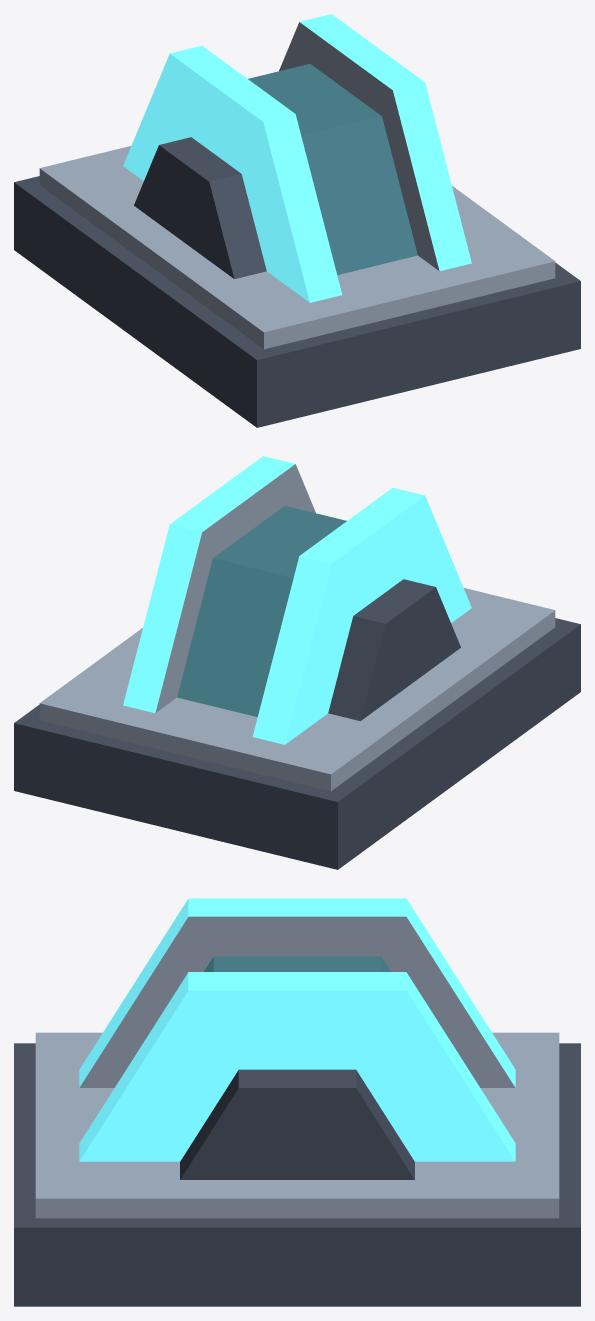
Rendered from machine_generatorLarge.glb.
3 renders of one model, top to bottom at view 1: azimuth 30°, elevation 25°; view 2: azimuth 150°, elevation 25°; view 3: azimuth 270°, elevation 25°, orthographic. The views are drawn at different scales.
Visible parts, largest first — view 1: machine_generatorLarge; view 2: machine_generatorLarge; view 3: machine_generatorLarge.
Part boxes in pixels (x1,y1,x2,y2): machine_generatorLarge: [14, 14, 580, 427]; machine_generatorLarge: [14, 456, 580, 869]; machine_generatorLarge: [14, 898, 580, 1306].
Size of the model in its own units: 1 by 0.683 by 1.3.
